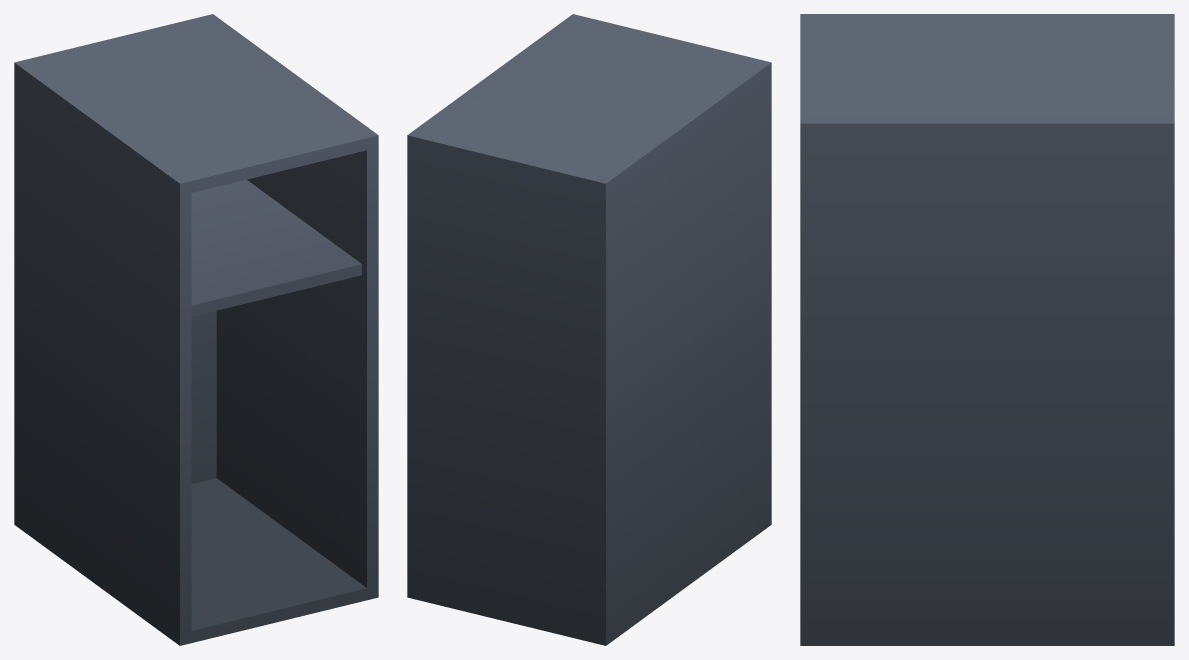
Rendered from Locker.fbx.
The picture shows the model from 3 angles, left to right: view 1: azimuth 30°, elevation 25°; view 2: azimuth 150°, elevation 25°; view 3: azimuth 270°, elevation 25°; orthographic projection. The views are drawn at different scales.
Parts seen in each view (by area): view 1: Locker; view 2: Locker; view 3: Locker.
Part boxes in pixels (x1=…): Locker: x1=14, y1=14, x2=378, y2=645; Locker: x1=407, y1=14, x2=771, y2=645; Locker: x1=800, y1=14, x2=1174, y2=645.
Size of the model in its own units: 36 by 80 by 52.
